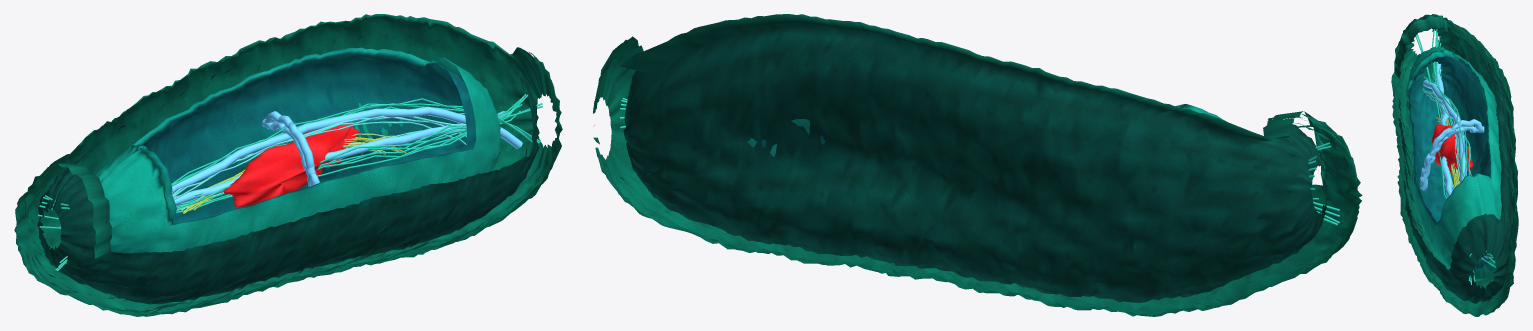
File: paramecium-teaching.tablet.glb
3 renders of one model, left to right at view 1: azimuth 30°, elevation 25°; view 2: azimuth 150°, elevation 25°; view 3: azimuth 270°, elevation 25°, orthographic. The views are drawn at different scales.
Parts seen in each view (by area): view 1: solid outer pellicle with open teaching window, solid exposed cytoplasm surface inside cutaway window, folded bean shaped macronucleus envelope, lower cutaway rim, upper cutaway rim, front cutaway rim, raised longitudinal pellicle ridge 13, raised longitudinal pellicle ridge 23, laminated cutaway tissue stripe 3, raised longitudinal pellicle ridge 28, laminated cutaway tissue stripe 2, raised longitudinal pellicle ridge 27 (+4 smaller); view 2: solid outer pellicle with open teaching window, solid exposed cytoplasm surface inside cutaway window; view 3: solid outer pellicle with open teaching window, solid exposed cytoplasm surface inside cutaway window, folded bean shaped macronucleus envelope, front cutaway rim, lower cutaway rim, upper cutaway rim, rear cutaway rim, raised longitudinal pellicle ridge 13, raised longitudinal pellicle ridge 23, laminated cutaway tissue stripe 3, raised longitudinal pellicle ridge 12, laminated cutaway tissue stripe 2 (+1 smaller).
Boxes of the visible parts, left/top/right/bottom form: solid outer pellicle with open teaching window: left=14, top=14, right=562, bottom=316; solid exposed cytoplasm surface inside cutaway window: left=95, top=47, right=500, bottom=253; folded bean shaped macronucleus envelope: left=223, top=124, right=359, bottom=208; lower cutaway rim: left=172, top=106, right=522, bottom=194; upper cutaway rim: left=59, top=111, right=505, bottom=226; front cutaway rim: left=264, top=111, right=316, bottom=186; raised longitudinal pellicle ridge 13: left=55, top=98, right=531, bottom=270; raised longitudinal pellicle ridge 23: left=39, top=111, right=520, bottom=228; laminated cutaway tissue stripe 3: left=174, top=121, right=466, bottom=199; raised longitudinal pellicle ridge 28: left=44, top=94, right=528, bottom=213; laminated cutaway tissue stripe 2: left=172, top=115, right=467, bottom=197; raised longitudinal pellicle ridge 27: left=43, top=94, right=525, bottom=211; solid outer pellicle with open teaching window: left=593, top=14, right=1362, bottom=316; solid exposed cytoplasm surface inside cutaway window: left=747, top=104, right=1226, bottom=156; solid outer pellicle with open teaching window: left=1391, top=14, right=1518, bottom=316; solid exposed cytoplasm surface inside cutaway window: left=1405, top=46, right=1501, bottom=280; folded bean shaped macronucleus envelope: left=1431, top=124, right=1473, bottom=174; front cutaway rim: left=1420, top=119, right=1483, bottom=190; lower cutaway rim: left=1423, top=80, right=1466, bottom=182; upper cutaway rim: left=1433, top=62, right=1487, bottom=259; rear cutaway rim: left=1420, top=126, right=1484, bottom=186; raised longitudinal pellicle ridge 13: left=1427, top=80, right=1475, bottom=281; raised longitudinal pellicle ridge 23: left=1432, top=70, right=1495, bottom=267; laminated cutaway tissue stripe 3: left=1426, top=94, right=1460, bottom=182; raised longitudinal pellicle ridge 12: left=1440, top=90, right=1471, bottom=284; laminated cutaway tissue stripe 2: left=1423, top=91, right=1460, bottom=170.
Size of the model in its own units: 180353 by 68771 by 47742.
24 materials, 13 textured.
